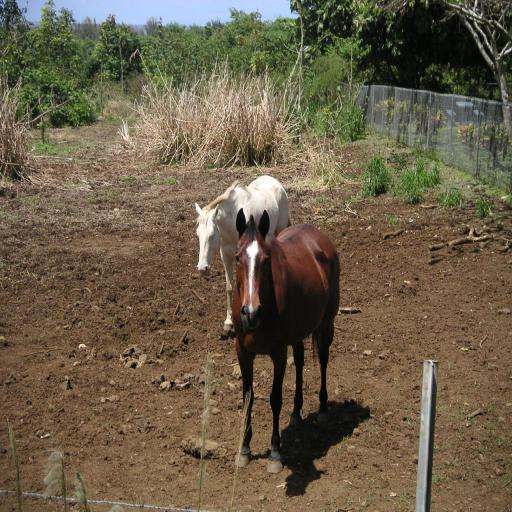horse: (232, 208, 340, 476), (194, 174, 294, 341)
